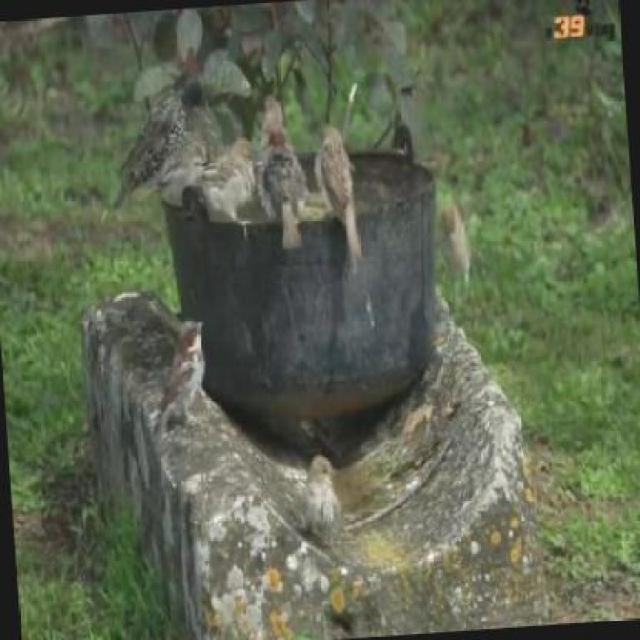Bird: (112, 74, 206, 209), (314, 124, 364, 263), (258, 125, 312, 250), (156, 318, 207, 435), (198, 138, 257, 223), (296, 453, 342, 546), (159, 137, 217, 207), (437, 203, 477, 286)
